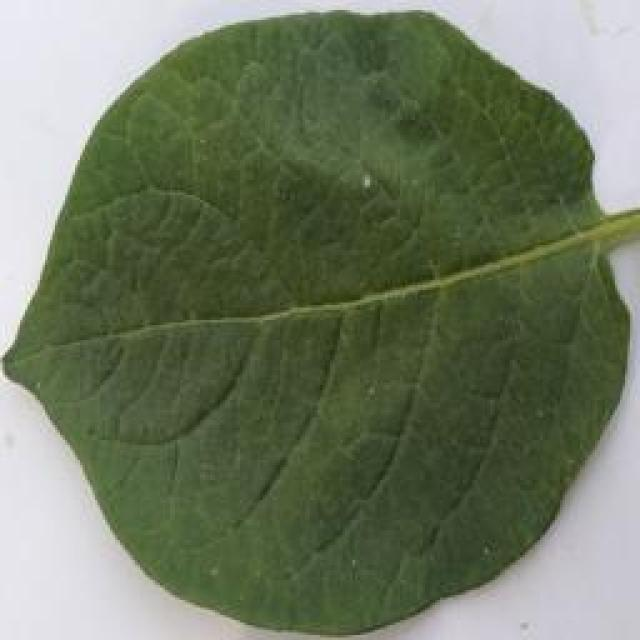Potato_Healthy: (5, 9, 640, 624)
